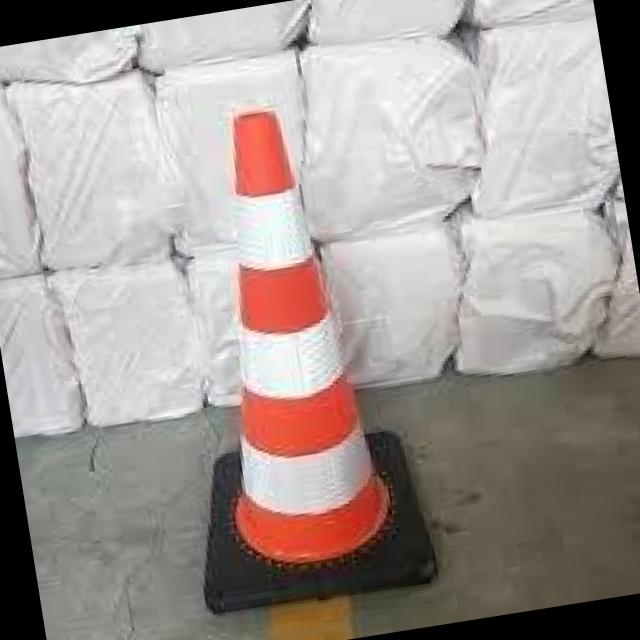Cono de seguridad: (136, 94, 436, 616)
